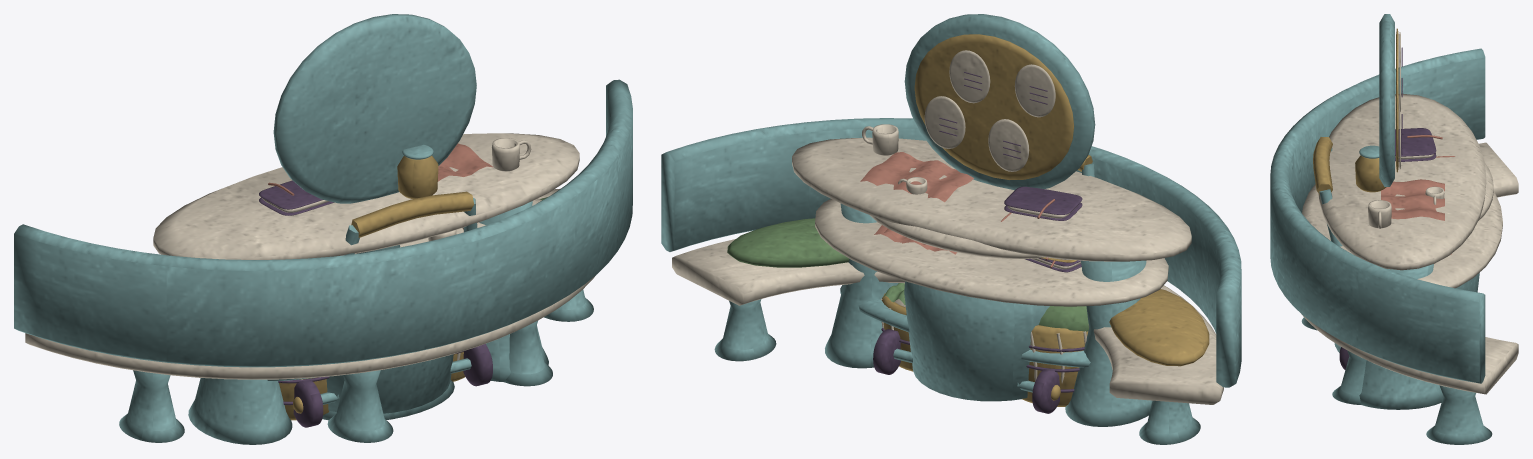
The model's file is commons_lived_in_kit_v1.glb.
3 renders of one model, left to right at view 1: azimuth 30°, elevation 25°; view 2: azimuth 150°, elevation 25°; view 3: azimuth 270°, elevation 25°, orthographic. The views are drawn at different scales.
Parts seen in each view (by area): view 1: civic_bench__grown_back, notice_read_station__notice_arch, arcade_counter__counter_top, civic_bench, civic_bench__seat, arcade_counter__counter_leg_neg1, planter_large__bowl, maintenance_cart, maintenance_cart__push_grip, arcade_counter__storage_jar, arcade_counter, arcade_counter__counter_cloth (+4 smaller); view 2: civic_bench__grown_back, arcade_counter__counter_top, civic_bench, communal_table__table_top, planter_large__bowl, civic_bench__seat, notice_read_station__notice_inset, notice_read_station__notice_arch, notice_read_station, arcade_counter__counter_leg_neg1, arcade_counter, storage_baskets (+7 smaller); view 3: civic_bench__grown_back, arcade_counter__counter_top, civic_bench__seat, communal_table__table_top, civic_bench, arcade_counter, notice_read_station__notice_arch, arcade_counter__counter_cloth, arcade_counter__workbook_cover, maintenance_cart__push_grip, arcade_counter__storage_jar, arcade_counter__counter_cup (+4 smaller).
Boxes of the visible parts, x1,y1,x2,y2 form: civic_bench__grown_back: (14, 79, 632, 367); notice_read_station__notice_arch: (273, 14, 476, 203); arcade_counter__counter_top: (153, 133, 579, 259); civic_bench: (119, 197, 593, 442); civic_bench__seat: (25, 188, 595, 379); arcade_counter__counter_leg_neg1: (188, 378, 292, 444); planter_large__bowl: (326, 354, 453, 413); maintenance_cart: (293, 198, 492, 427); maintenance_cart__push_grip: (351, 191, 474, 237); arcade_counter__storage_jar: (397, 155, 438, 198); arcade_counter: (479, 201, 548, 381); arcade_counter__counter_cloth: (438, 143, 493, 181); civic_bench__grown_back: (661, 118, 1241, 387); arcade_counter__counter_top: (792, 137, 1191, 261); civic_bench: (714, 218, 1209, 444); communal_table__table_top: (815, 199, 1168, 306); planter_large__bowl: (904, 281, 1049, 401); civic_bench__seat: (672, 239, 1223, 404); notice_read_station__notice_inset: (914, 34, 1074, 179); notice_read_station__notice_arch: (904, 14, 1095, 190); notice_read_station: (924, 50, 1055, 171); arcade_counter__counter_leg_neg1: (1065, 260, 1152, 426); arcade_counter: (825, 203, 898, 368); storage_baskets: (880, 283, 1088, 406); civic_bench__grown_back: (1270, 48, 1485, 383); arcade_counter__counter_top: (1318, 93, 1486, 270); civic_bench__seat: (1301, 142, 1518, 394); communal_table__table_top: (1302, 184, 1502, 288); civic_bench: (1301, 317, 1492, 444); arcade_counter: (1359, 264, 1443, 409); notice_read_station__notice_arch: (1379, 14, 1394, 186); arcade_counter__counter_cloth: (1381, 179, 1444, 220); arcade_counter__workbook_cover: (1395, 128, 1436, 156); maintenance_cart__push_grip: (1313, 137, 1332, 194); arcade_counter__storage_jar: (1355, 155, 1386, 192); arcade_counter__counter_cup: (1368, 200, 1391, 228).
Bounding box in the file's own units: 3.25 × 1.9 × 1.35.
Materials: 1 (1 with a texture image).
